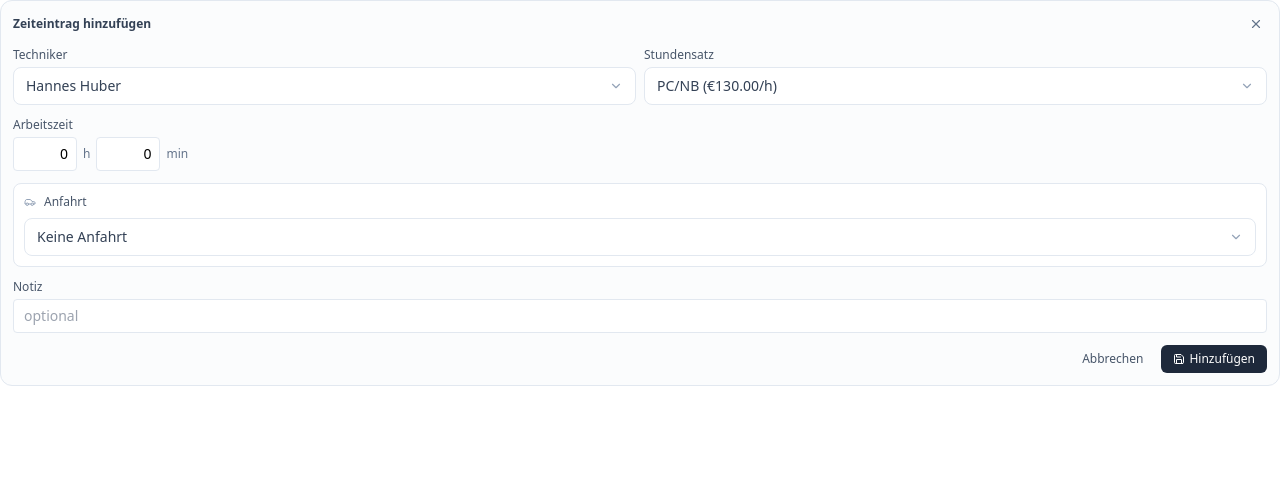
it: TimeEntryForm › requires a zone when travel mode is pauschale
Click the button with aria-label "Anfahrt-Modus".
click(82, 236)  # box [24,218,1256,256]
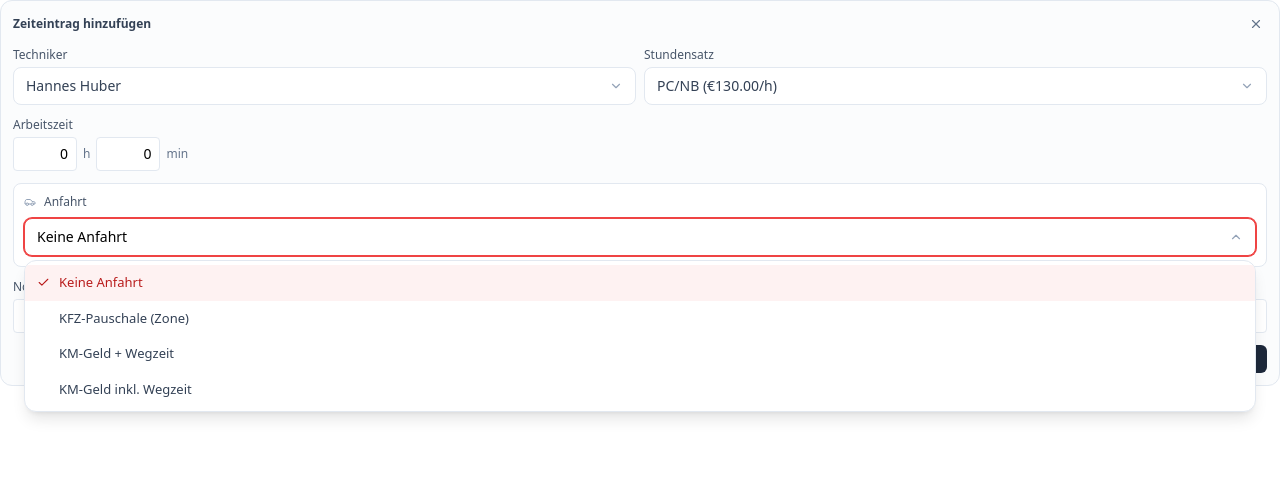
Click the option "KFZ-Pauschale (Zone)".
click(124, 318)  # box [25,300,1255,336]
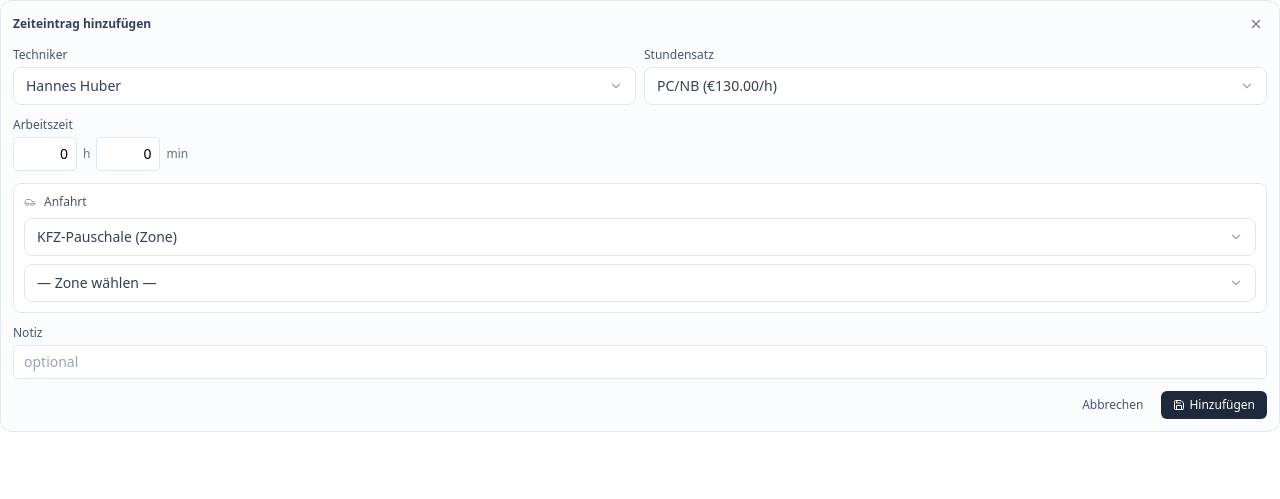
Click the button "Hinzufügen".
click(1214, 405)  # box [1161,391,1267,419]
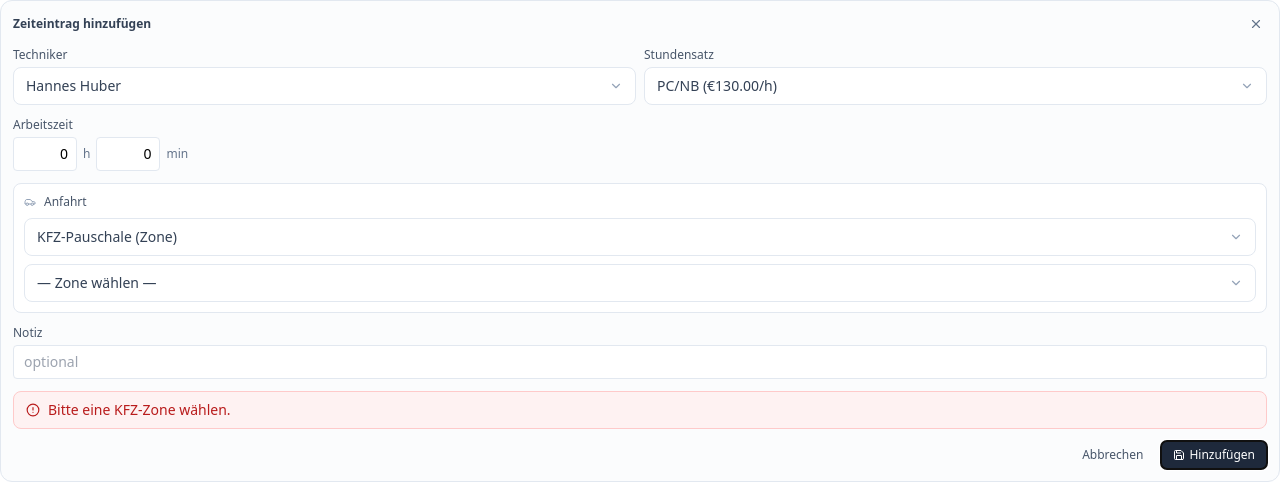
Result: the text "Bitte eine KFZ-Zone wählen." is shown at [13,391,1267,429]
